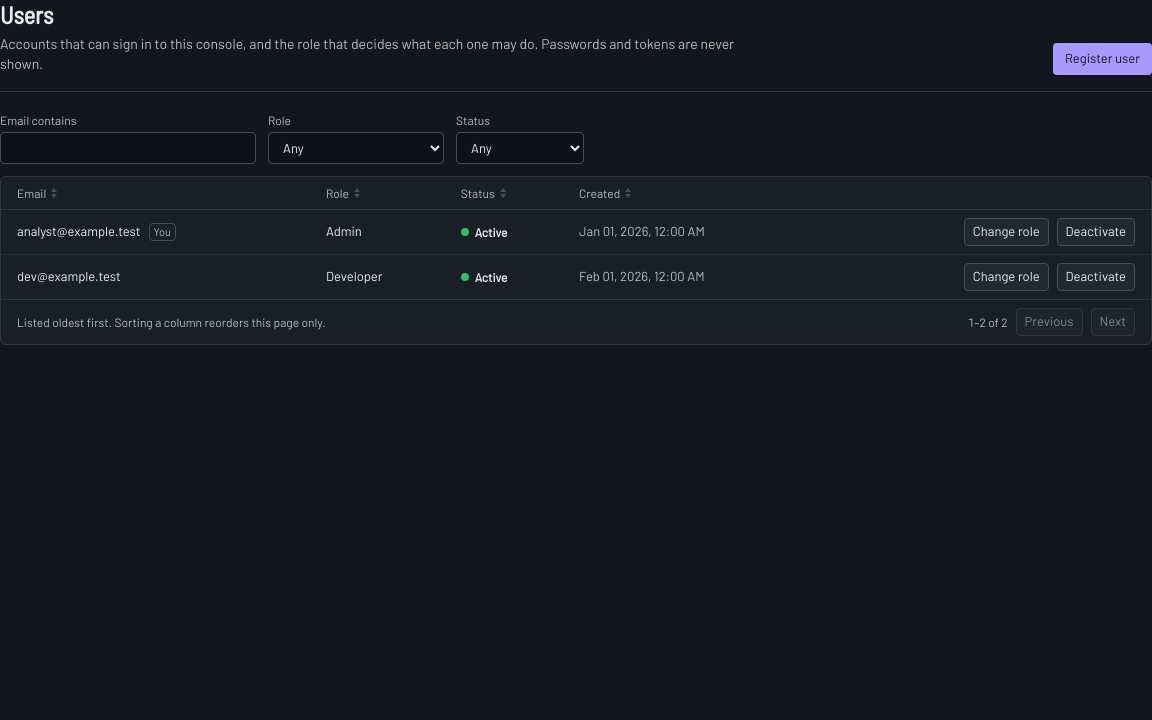
Scenario: Users › changes a role after confirmation and moves focus to the confirmation
The width and height of the screenshot is (1152, 720).
Step 1. Click the button with aria-label "Change role for dev@example.test" → click(1006, 277), box x1=964 y1=263 x2=1049 y2=291
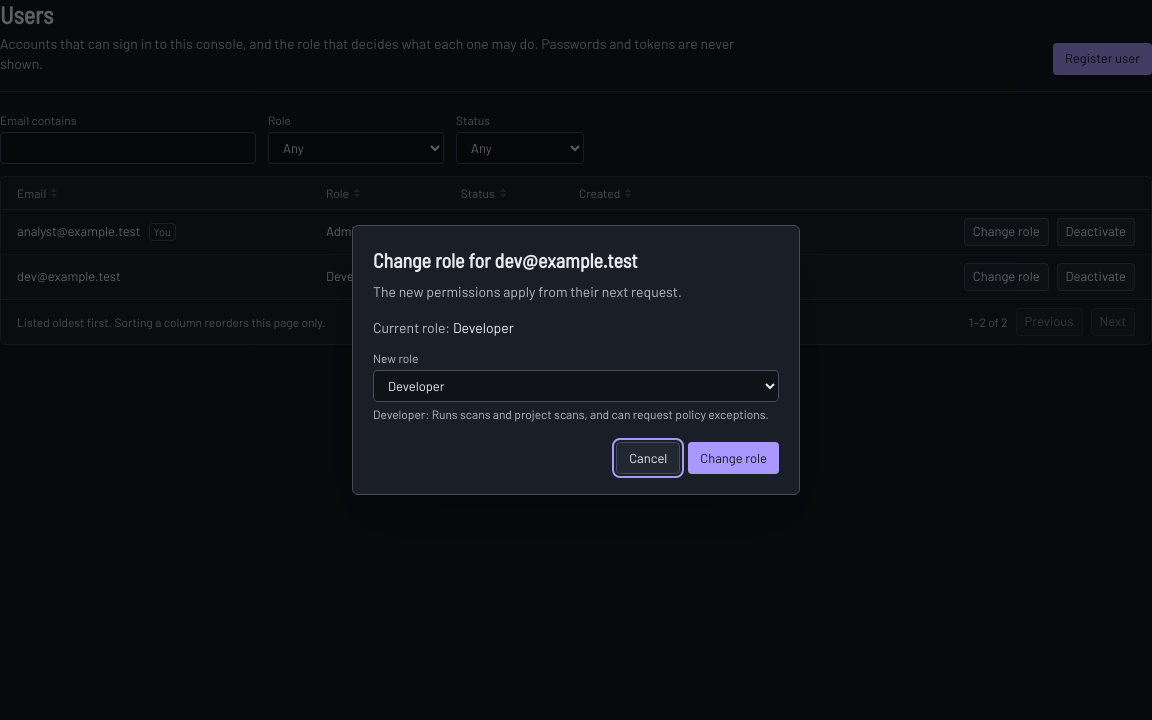
Step 2. Select "Security analyst" in the dropdown labelled "New role" → (576, 386), box x1=373 y1=370 x2=779 y2=402
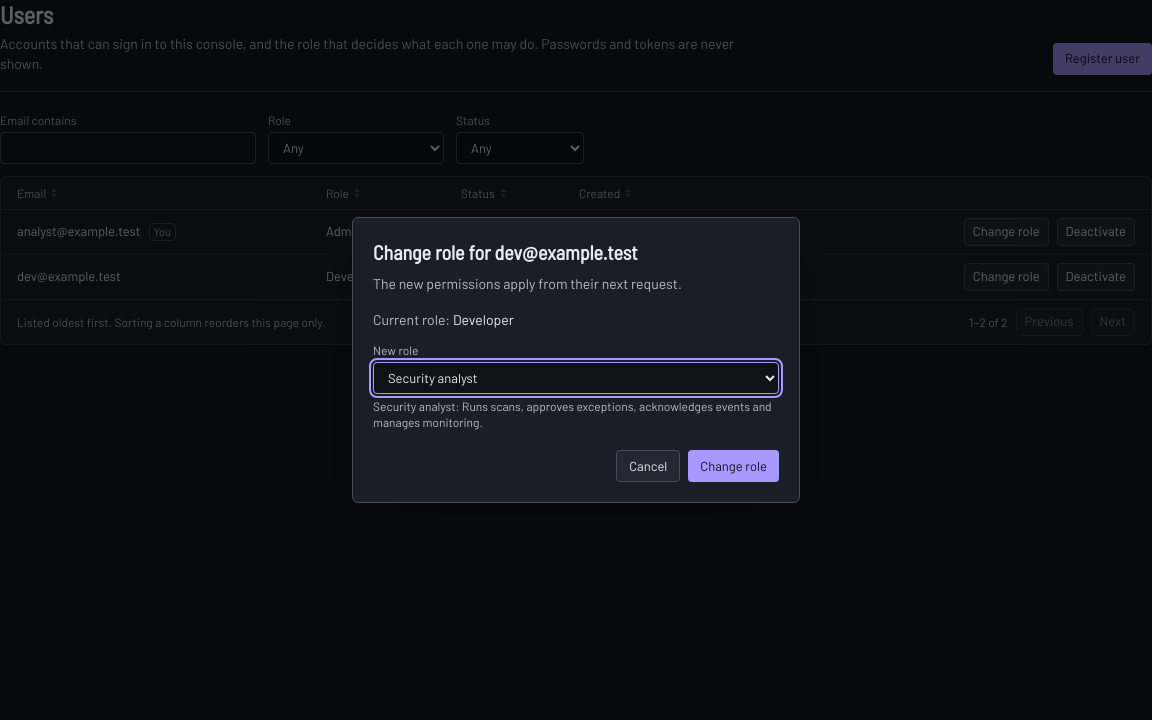
Step 3. Click the button "Change role" → click(734, 466), box x1=688 y1=450 x2=779 y2=482
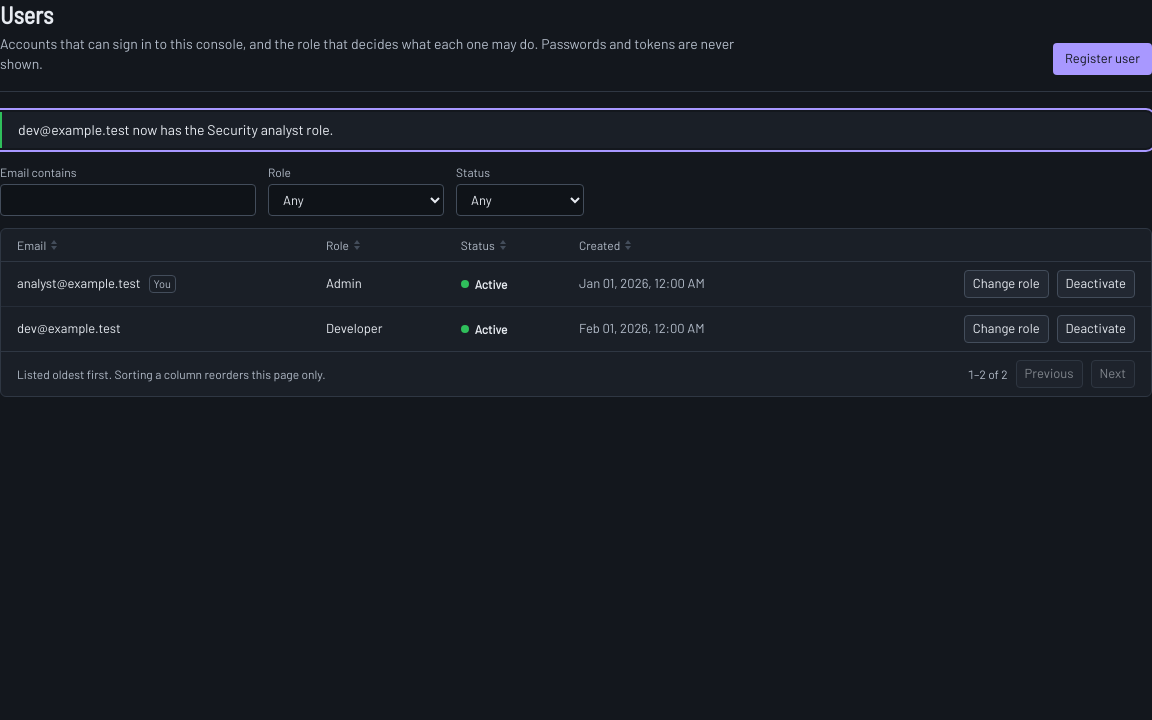
Check: the dialog is gone
